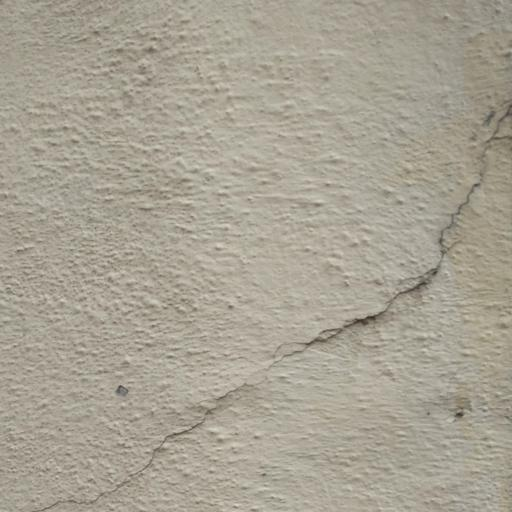minor_crack: (56, 90, 512, 512)
